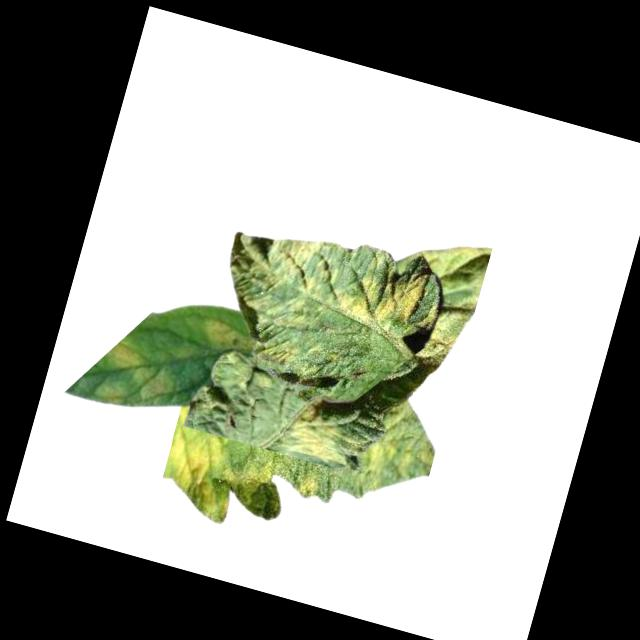Leaf_Mold: (152, 423, 277, 536), (356, 393, 448, 506), (330, 241, 432, 341), (90, 338, 184, 409), (282, 393, 359, 468), (256, 227, 330, 298), (407, 320, 461, 377), (198, 314, 257, 361), (255, 334, 298, 370), (291, 468, 324, 503), (89, 378, 126, 408)
